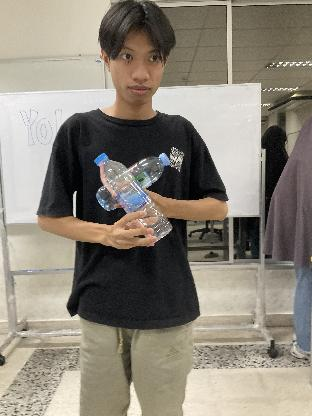Plastic Bottle: (94, 152, 172, 244), (97, 154, 171, 212)
